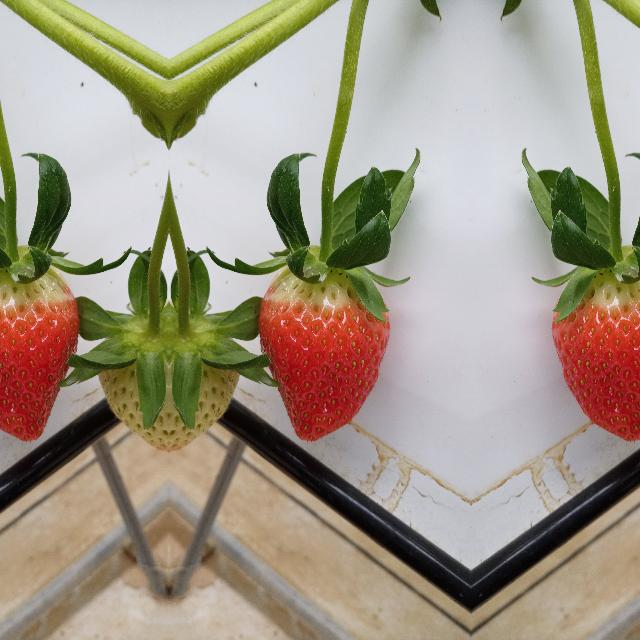Health_100: (256, 266, 389, 442), (551, 265, 640, 442), (0, 265, 79, 442)
Health_25: (168, 280, 235, 474), (102, 280, 168, 474)
